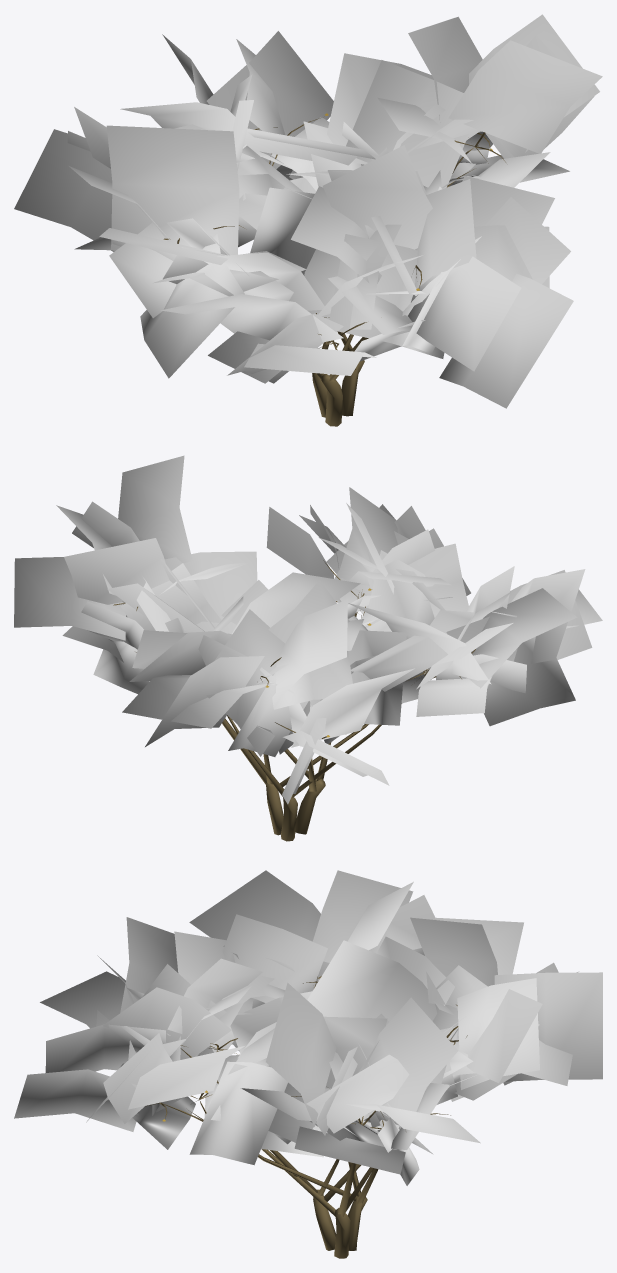
The model's file is V7_Ciste_0_Niveau2.fbx.
The picture shows the model from 3 angles, top to bottom: view 1: azimuth 30°, elevation 25°; view 2: azimuth 150°, elevation 25°; view 3: azimuth 270°, elevation 25°; orthographic projection. The views are drawn at different scales.
Visible parts, largest first — view 1: V7_Ciste_0_Detail2; view 2: V7_Ciste_0_Detail2; view 3: V7_Ciste_0_Detail2.
Part boxes in pixels (x1=…): V7_Ciste_0_Detail2: x1=14, y1=14, x2=602, y2=426; V7_Ciste_0_Detail2: x1=14, y1=455, x2=602, y2=841; V7_Ciste_0_Detail2: x1=14, y1=870, x2=602, y2=1258.
Size of the model in its own units: 177 by 113 by 179.
